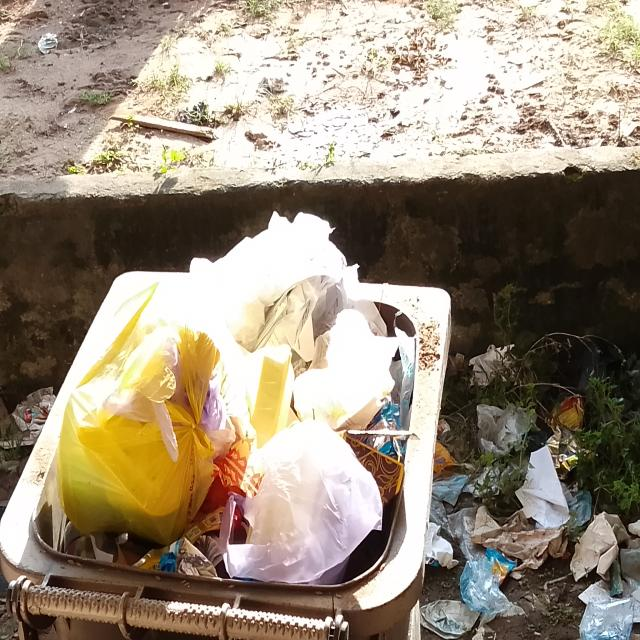overflowing: (18, 225, 454, 598)
